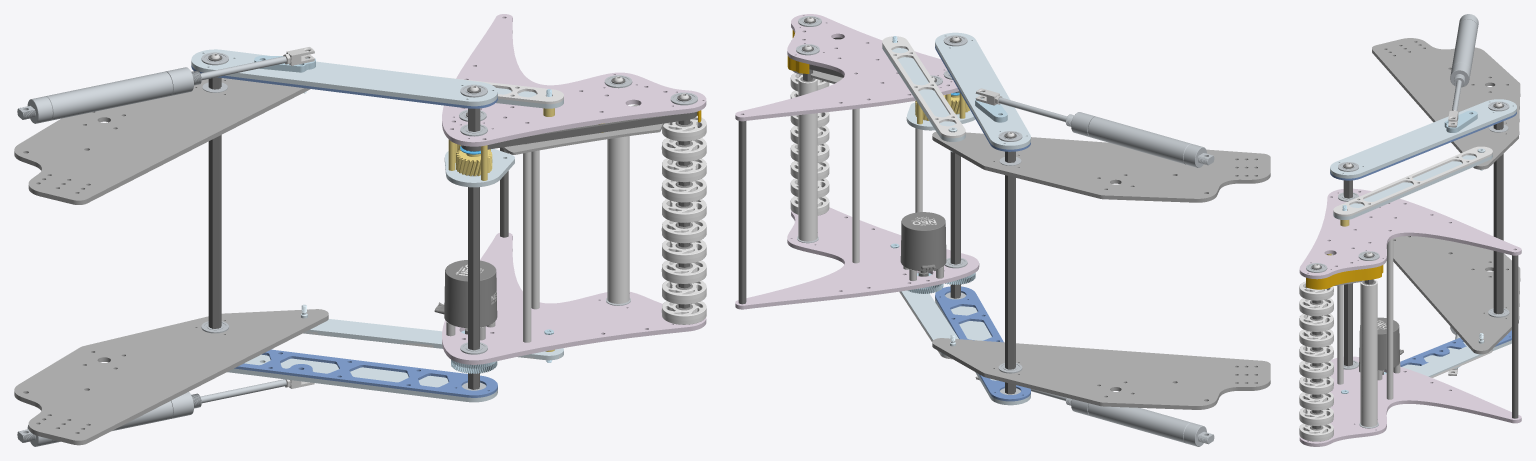
Rendered from frc-intake.glb.
3 renders of one model, left to right at view 1: azimuth 30°, elevation 25°; view 2: azimuth 150°, elevation 25°; view 3: azimuth 270°, elevation 25°, orthographic. The views are drawn at different scales.
Visible parts, largest first — view 1: Bottom plate v4.1 (×2), Top Plate v4.2 (×2), Back Arm v4.1 (×2), REV-21-2029 (×10), Back Arm Support v4.2 (×2), Shaft (×2), Cylinder Body, Part 1 (×2), NEO Brushless Motor (REV-21-1650), Front Arm v4.1, belt - Shaft to top roller, Belt Guard lexan v4.2 (+5 smaller); view 2: Bottom plate v4.1 (×2), Top Plate v4.2 (×2), Shaft (×3), Back Arm v4.1 (×2), Cylinder Body (×2), Front Arm v4.1 (×2), NEO Brushless Motor (REV-21-1650), Back Arm Support v4.2, Part 1 (×2), Front Arm Support v4.2, Rear Port (×2); view 3: Bottom plate v4.1 (×2), Top Plate v4.2 (×2), REV-21-2029 (×10), Shaft (×5), Back Arm v4.1 (×2), am-4541 Sushi Roller 500 Hex Bore (×9), Front Arm v4.1 (×2), Part 1 (×2), Front Arm Support v4.2, Back Arm Support v4.2 (×2), NEO Brushless Motor (REV-21-1650), Belt guard 3D V 4.2 (+3 smaller).
Part boxes in pixels (x1,y1,x2,y2): Bottom plate v4.1 (×2): (14,78,328,445); Top Plate v4.2 (×2): (442,14,706,364); Back Arm v4.1 (×2): (191,49,497,402); REV-21-2029 (×10): (661,115,706,324); Back Arm Support v4.2 (×2): (191,65,497,397); Shaft (×2): (208,53,479,389); Cylinder Body: (46,71,172,120); Part 1 (×2): (523,143,539,342); NEO Brushless Motor (REV-21-1650): (434,260,497,329); Front Arm v4.1: (303,319,563,360); belt - Shaft to top roller: (461,112,697,151); Belt Guard lexan v4.2: (502,104,664,154); Bottom plate v4.1 (×2): (932,132,1270,409); Top Plate v4.2 (×2): (735,14,979,309); Shaft (×3): (738,121,1016,394); Back Arm v4.1 (×2): (935,32,1030,405); Cylinder Body (×2): (1088,116,1190,442); Front Arm v4.1 (×2): (882,45,965,356); NEO Brushless Motor (REV-21-1650): (900,212,946,273); Back Arm Support v4.2: (935,286,1030,401); Part 1 (×2): (852,108,922,263); Front Arm Support v4.2: (882,36,965,138); Rear Port (×2): (1183,143,1214,446); Bottom plate v4.1 (×2): (1372,38,1520,354); Top Plate v4.2 (×2): (1299,188,1521,446); REV-21-2029 (×10): (1299,281,1333,441); Shaft (×5): (1311,102,1518,429); Back Arm v4.1 (×2): (1330,99,1516,369); am-4541 Sushi Roller 500 Hex Bore (×9): (1360,279,1377,426); Front Arm v4.1 (×2): (1333,154,1492,376); Part 1 (×2): (1337,238,1393,399); Front Arm Support v4.2: (1333,146,1492,216); Back Arm Support v4.2 (×2): (1330,112,1516,366); NEO Brushless Motor (REV-21-1650): (1359,317,1403,370); Belt guard 3D V 4.2: (1306,265,1383,289).
Bounding box in the file's own units: 0.7971 × 0.431 × 0.3264.
